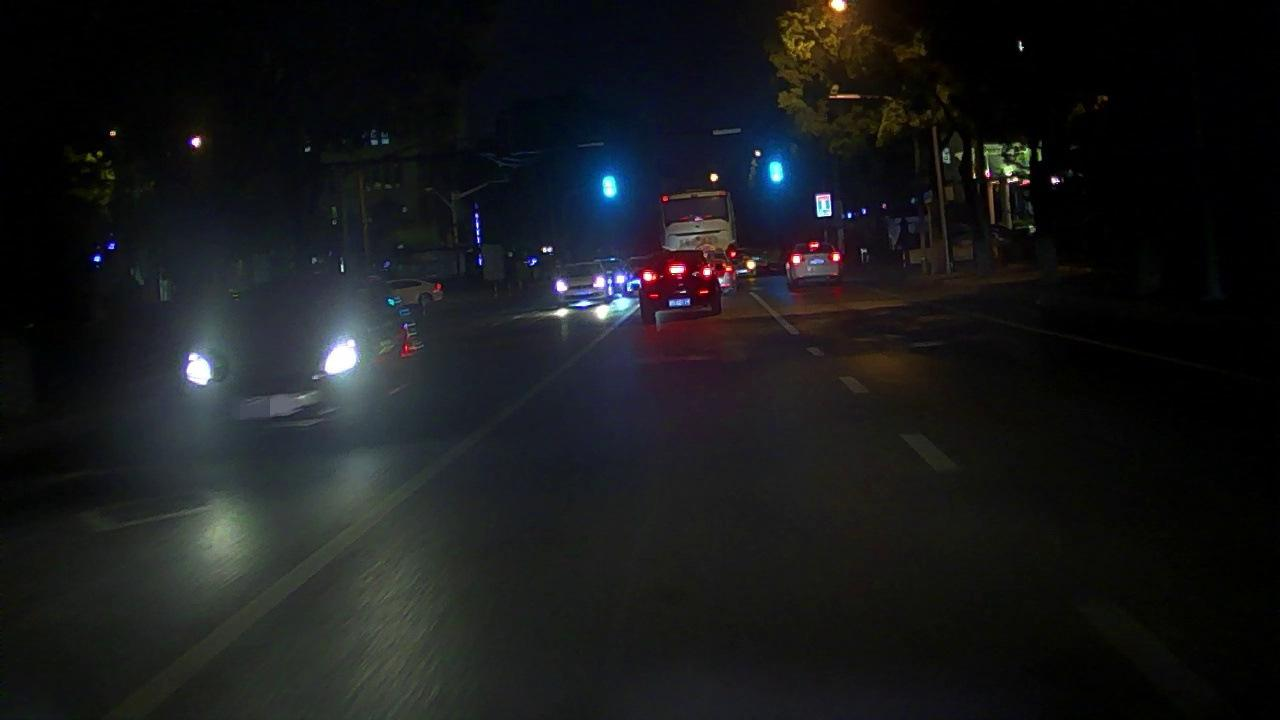traffic_light: (763, 155, 790, 191), (598, 171, 622, 203)
